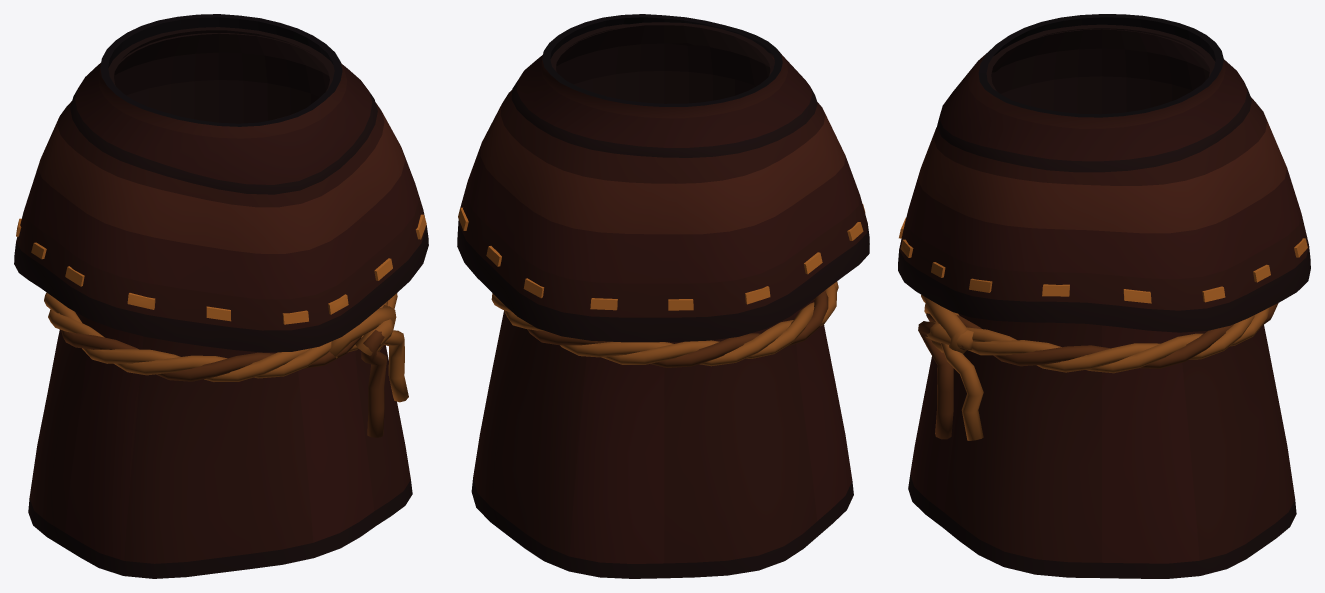
Rendered from MonksShoulderMantle.fbx.
3 renders of one model, left to right at view 1: azimuth 30°, elevation 25°; view 2: azimuth 150°, elevation 25°; view 3: azimuth 270°, elevation 25°, orthographic. The views are drawn at different scales.
Parts seen in each view (by area): view 1: MonkLayers; view 2: MonkLayers; view 3: MonkLayers.
Part boxes in pixels (<box>): MonkLayers: <box>14,14,428,578</box>; MonkLayers: <box>457,14,869,578</box>; MonkLayers: <box>898,14,1310,578</box>.
Bounding box in the file's own units: 0.3789 × 0.4652 × 0.3818.
1 material, 1 textured.
